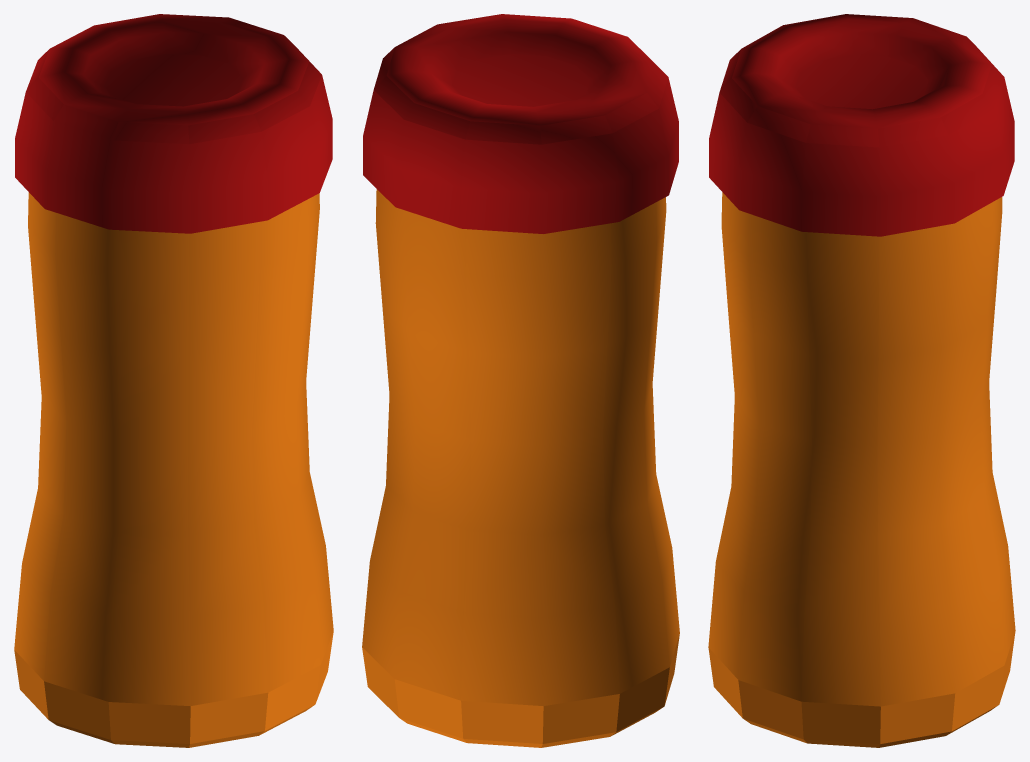
Rendered from Bottle 16.fbx.
The picture shows the model from 3 angles, left to right: view 1: azimuth 30°, elevation 25°; view 2: azimuth 150°, elevation 25°; view 3: azimuth 270°, elevation 25°; orthographic projection.
Parts seen in each view (by area): view 1: Node 0; view 2: Node 0; view 3: Node 0.
Boxes of the visible parts, left/top/right/bottom form: Node 0: left=14, top=14, right=333, bottom=747; Node 0: left=362, top=14, right=679, bottom=747; Node 0: left=708, top=14, right=1015, bottom=747.
Bounding box in the file's own units: 0.0775 × 0.1728 × 0.0808.
